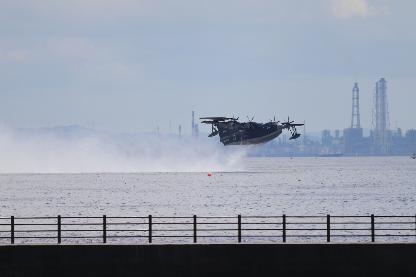Tu95: (198, 114, 304, 145)
